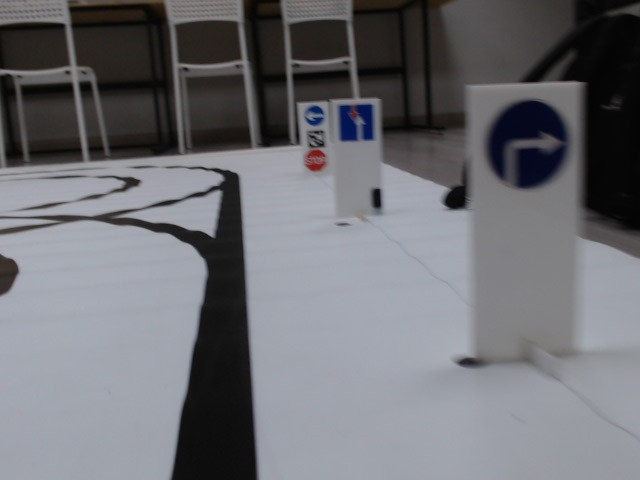Right: (482, 101, 572, 191)
Stop: (305, 149, 328, 172)
priority_movement: (336, 105, 377, 146)
